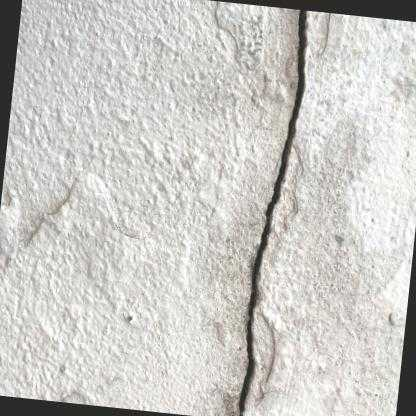crack: (236, 8, 307, 416)
